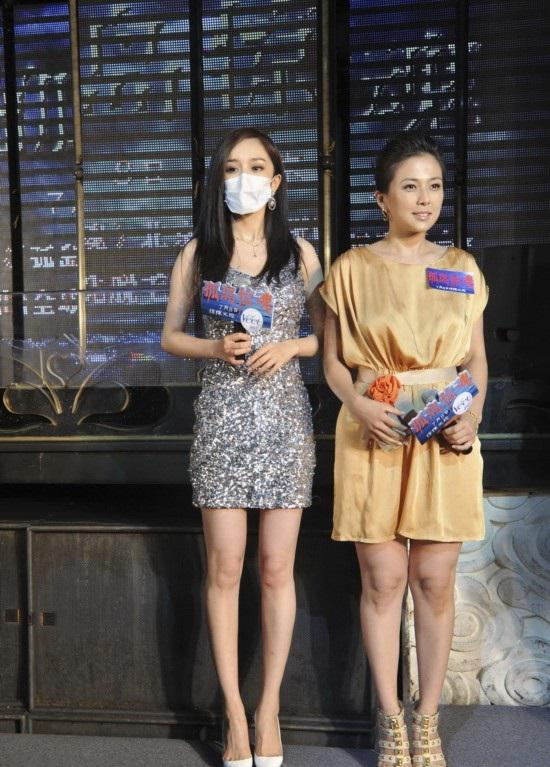NONE: (393, 172, 447, 227)
OK: (215, 155, 276, 216)
